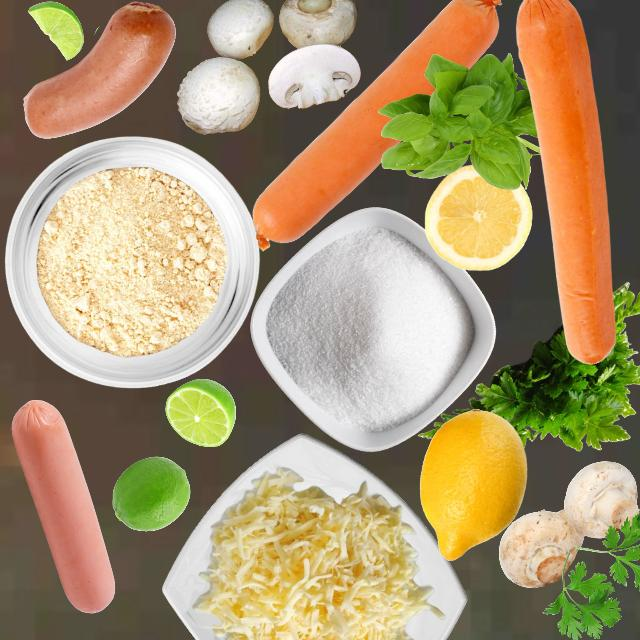Flour: (36, 165, 226, 357)
Sugar: (264, 225, 473, 432)
